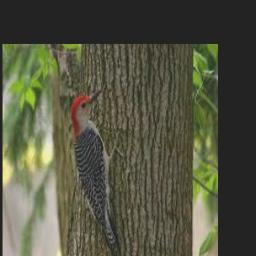Woodpecker: (71, 88, 124, 251)
